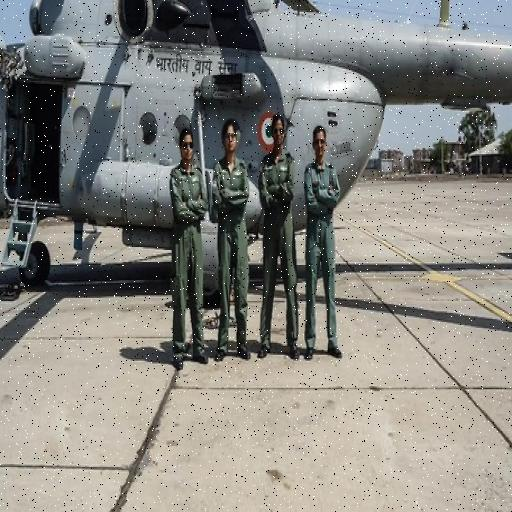helicopter: (1, 1, 512, 303)
